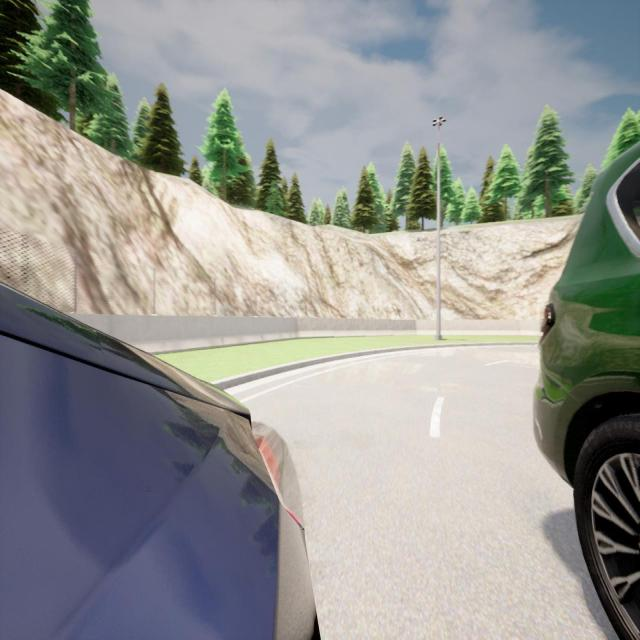Vehicle: (1, 283, 319, 640), (534, 143, 640, 640)
